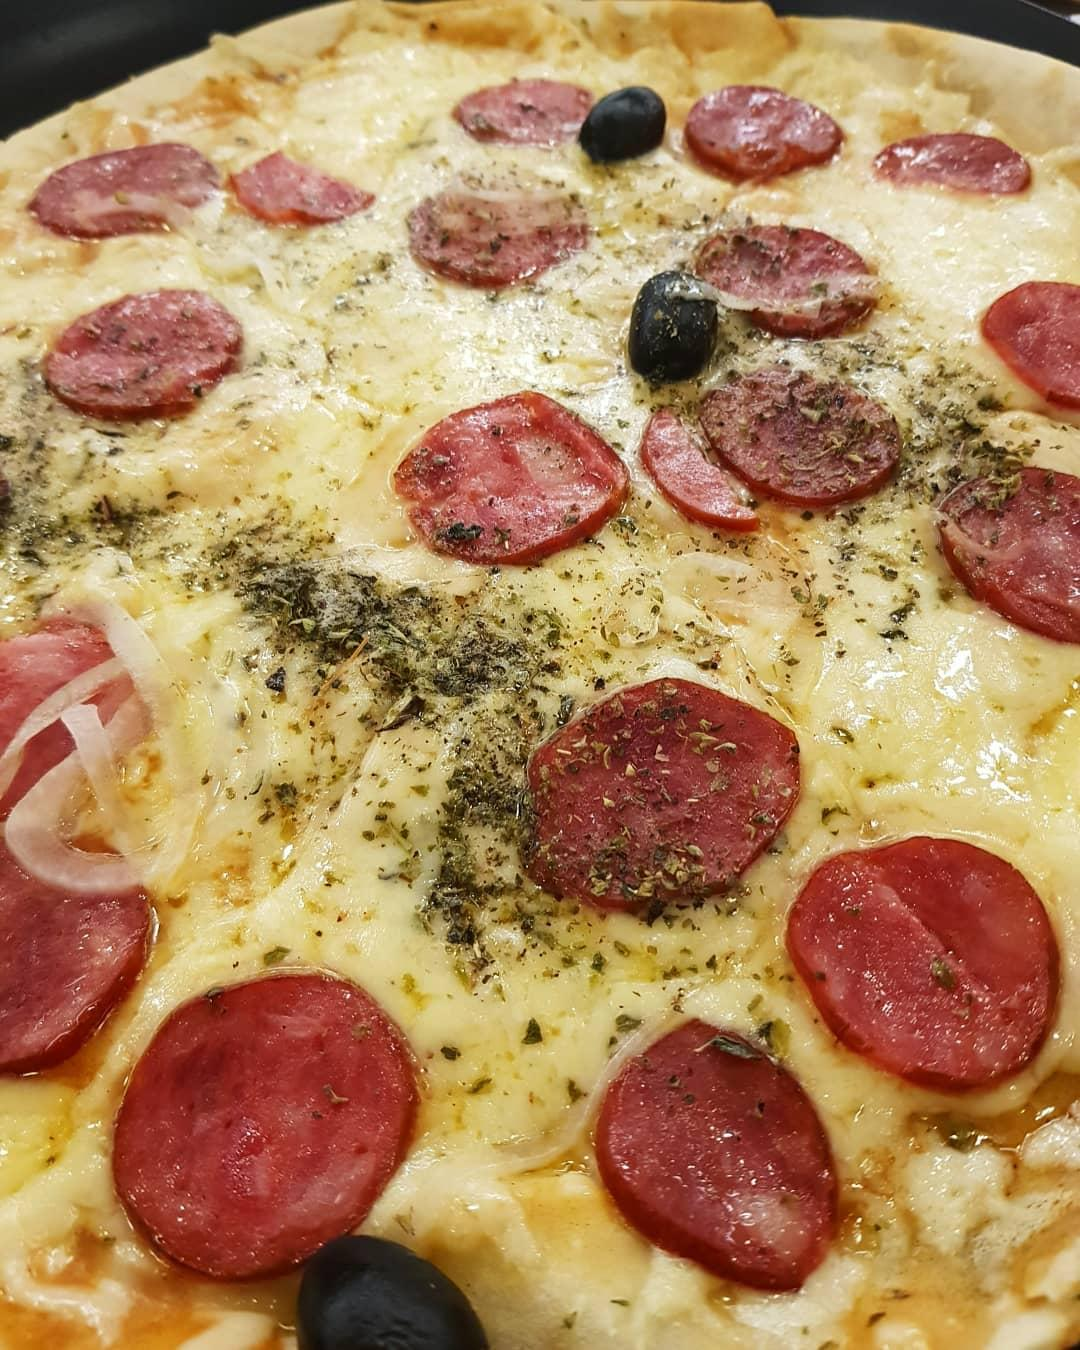Olives: (313, 1233, 476, 1350), (624, 261, 726, 376), (579, 86, 670, 161)
Pepperoni: (118, 971, 428, 1265), (591, 1018, 843, 1302), (0, 620, 144, 1047), (506, 685, 785, 883), (806, 856, 1036, 1074), (640, 360, 879, 521), (393, 388, 616, 547), (949, 461, 1080, 648), (48, 289, 226, 404), (398, 171, 580, 264), (31, 143, 218, 229), (981, 263, 1080, 403), (711, 226, 865, 310), (691, 84, 833, 174), (876, 131, 1025, 199), (241, 151, 375, 226), (466, 76, 587, 131)
Pizza: (3, 0, 1080, 1348)
